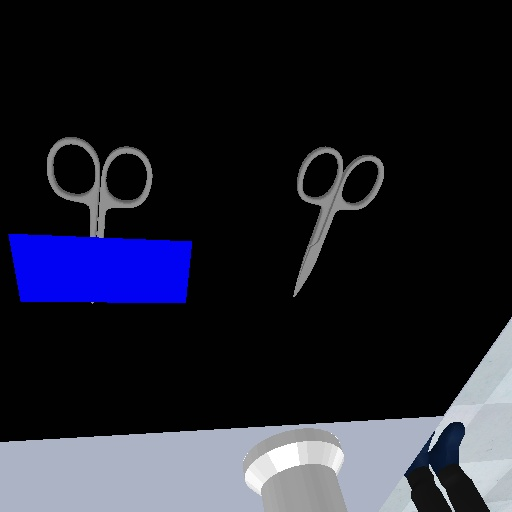tijera: (287, 142, 388, 303), (39, 127, 157, 238)
